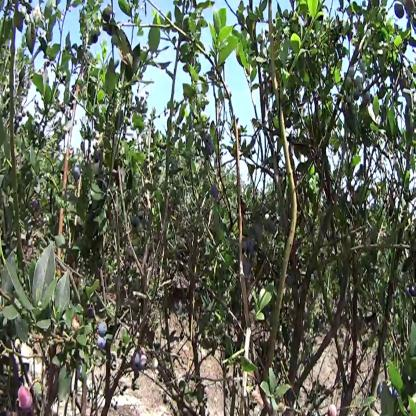intermediate: (19, 383, 36, 410), (141, 352, 149, 370), (329, 406, 337, 415)
mature: (97, 334, 109, 356), (99, 323, 108, 338), (211, 184, 220, 198), (133, 353, 141, 368), (74, 167, 81, 181)
young: (152, 358, 161, 373)
